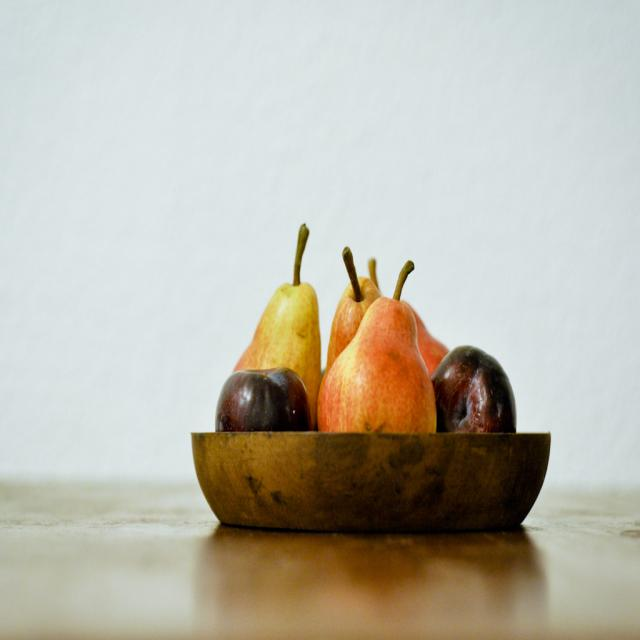pear: (316, 293, 436, 433), (232, 278, 323, 426), (314, 276, 381, 404), (407, 303, 449, 372)
